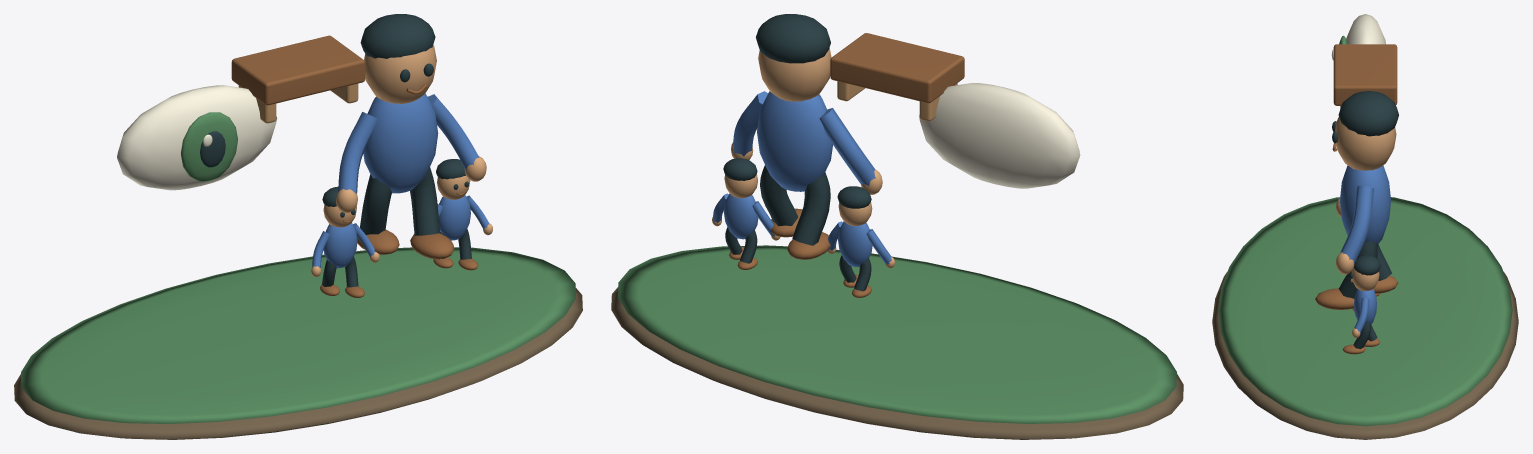
File: complete-second-observing-crowd.glb
The picture shows the model from 3 angles, left to right: view 1: azimuth 30°, elevation 25°; view 2: azimuth 150°, elevation 25°; view 3: azimuth 270°, elevation 25°; orthographic projection. The views are drawn at different scales.
Visible parts, largest first — view 1: complete-second-observing-crowd_surface_01, complete-second-observing-crowd_surface_06, complete-second-observing-crowd_surface_00, complete-second-observing-crowd_surface_02, complete-second-observing-crowd_surface_05, complete-second-observing-crowd_surface_03, complete-second-observing-crowd_surface_04, complete-second-observing-crowd_surface_07; view 2: complete-second-observing-crowd_surface_01, complete-second-observing-crowd_surface_02, complete-second-observing-crowd_surface_06, complete-second-observing-crowd_surface_00, complete-second-observing-crowd_surface_03, complete-second-observing-crowd_surface_05, complete-second-observing-crowd_surface_04, complete-second-observing-crowd_surface_07; view 3: complete-second-observing-crowd_surface_01, complete-second-observing-crowd_surface_00, complete-second-observing-crowd_surface_05, complete-second-observing-crowd_surface_06, complete-second-observing-crowd_surface_03, complete-second-observing-crowd_surface_04, complete-second-observing-crowd_surface_02.
Part boxes in pixels (box(x1,y1,x2,y2)): complete-second-observing-crowd_surface_01: box(21, 112, 575, 423); complete-second-observing-crowd_surface_06: box(312, 93, 489, 268); complete-second-observing-crowd_surface_00: box(14, 288, 582, 439); complete-second-observing-crowd_surface_02: box(117, 85, 277, 190); complete-second-observing-crowd_surface_05: box(231, 35, 478, 297); complete-second-observing-crowd_surface_03: box(200, 14, 471, 287); complete-second-observing-crowd_surface_04: box(311, 45, 492, 276); complete-second-observing-crowd_surface_07: box(238, 83, 358, 123); complete-second-observing-crowd_surface_01: box(618, 245, 1176, 423); complete-second-observing-crowd_surface_02: box(919, 83, 1080, 188); complete-second-observing-crowd_surface_06: box(713, 91, 891, 266); complete-second-observing-crowd_surface_00: box(611, 287, 1183, 439); complete-second-observing-crowd_surface_03: box(723, 14, 871, 291); complete-second-observing-crowd_surface_05: box(729, 33, 964, 297); complete-second-observing-crowd_surface_04: box(712, 48, 894, 268); complete-second-observing-crowd_surface_07: box(837, 81, 957, 121); complete-second-observing-crowd_surface_01: box(1218, 35, 1512, 426); complete-second-observing-crowd_surface_00: box(1212, 272, 1518, 439); complete-second-observing-crowd_surface_05: box(1315, 44, 1398, 354); complete-second-observing-crowd_surface_06: box(1339, 165, 1390, 332); complete-second-observing-crowd_surface_03: box(1332, 91, 1398, 349); complete-second-observing-crowd_surface_04: box(1335, 117, 1396, 338); complete-second-observing-crowd_surface_02: box(1331, 14, 1385, 60).
Size of the model in its own units: 4.56 by 2.56 by 2.5.
